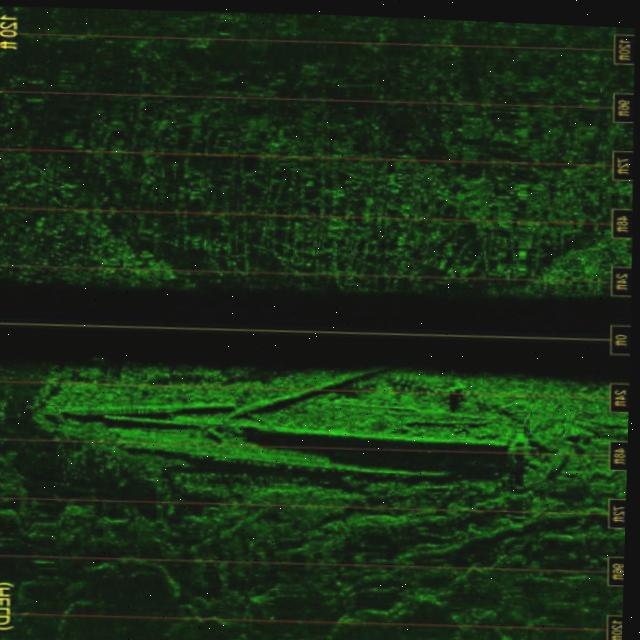shipwreck: (43, 371, 512, 479)
